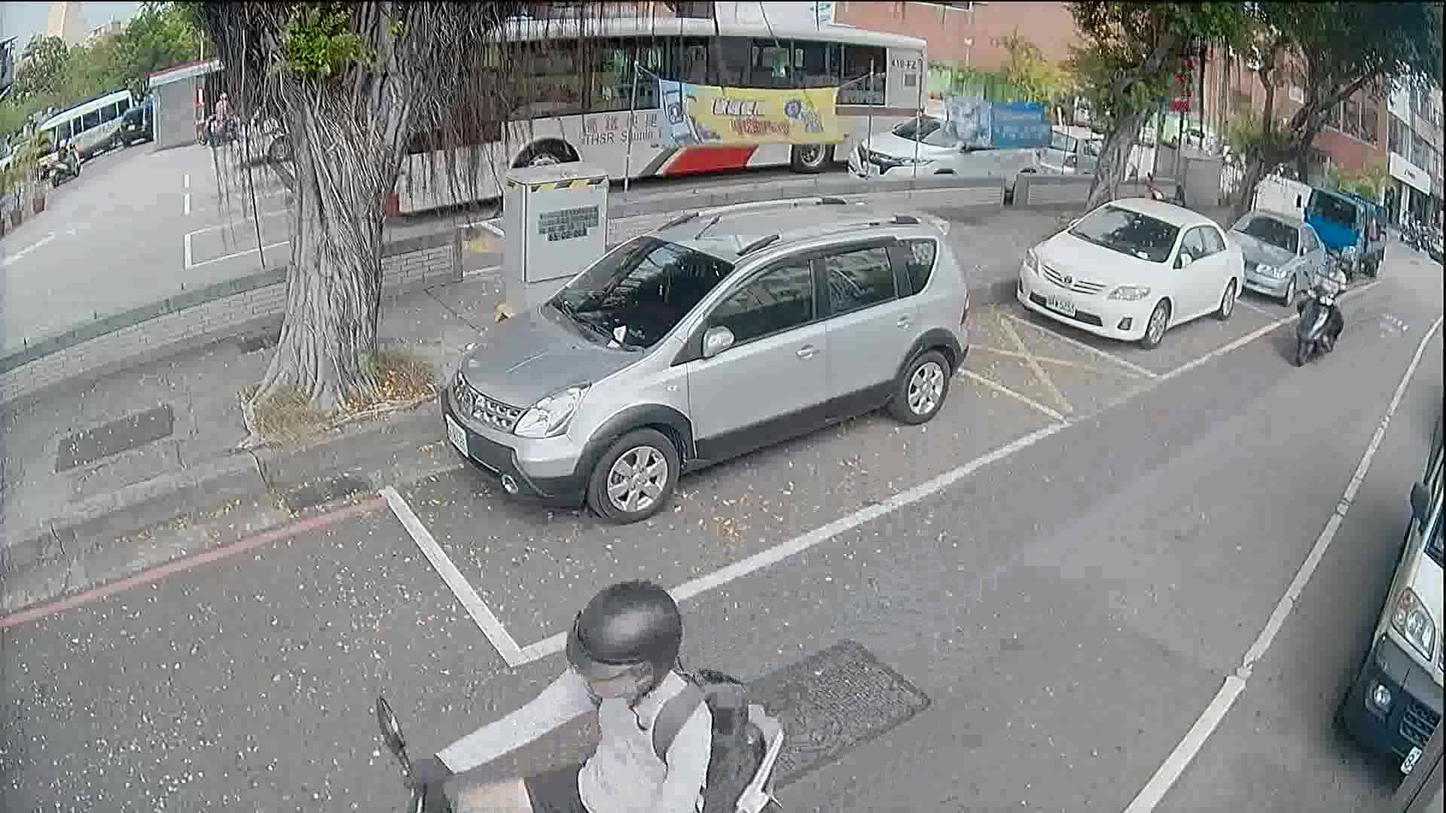person: (398, 573, 720, 811), (1298, 248, 1345, 349), (208, 85, 232, 143), (53, 136, 70, 163)
